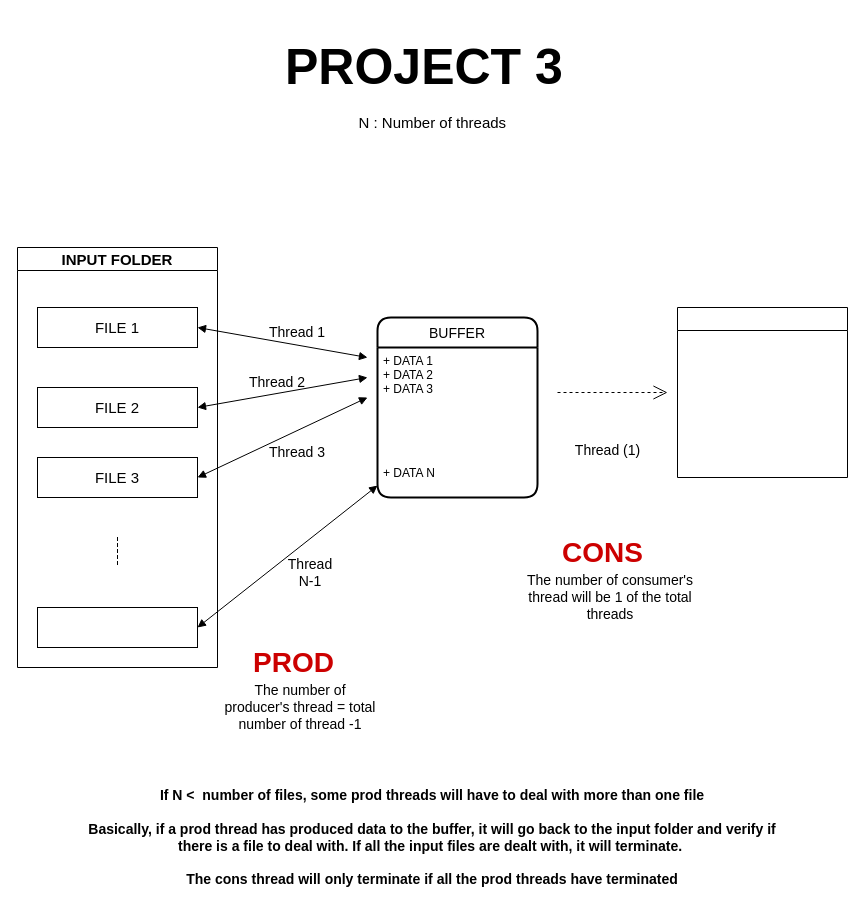
The diagram is 865 pixels wide and 924 high, and some of its shapes have lost their labels. Here are the shapes that lost their labels. From the top down, the centre of each, then its label:
(x=762, y=392): OUTPUT FILE
(x=117, y=627): FILE N
